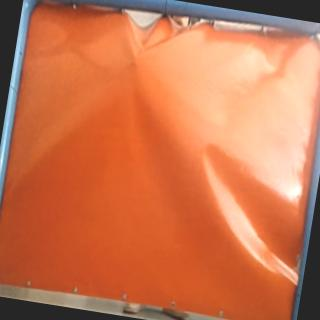Hit-hRxx: (128, 46, 146, 64)
